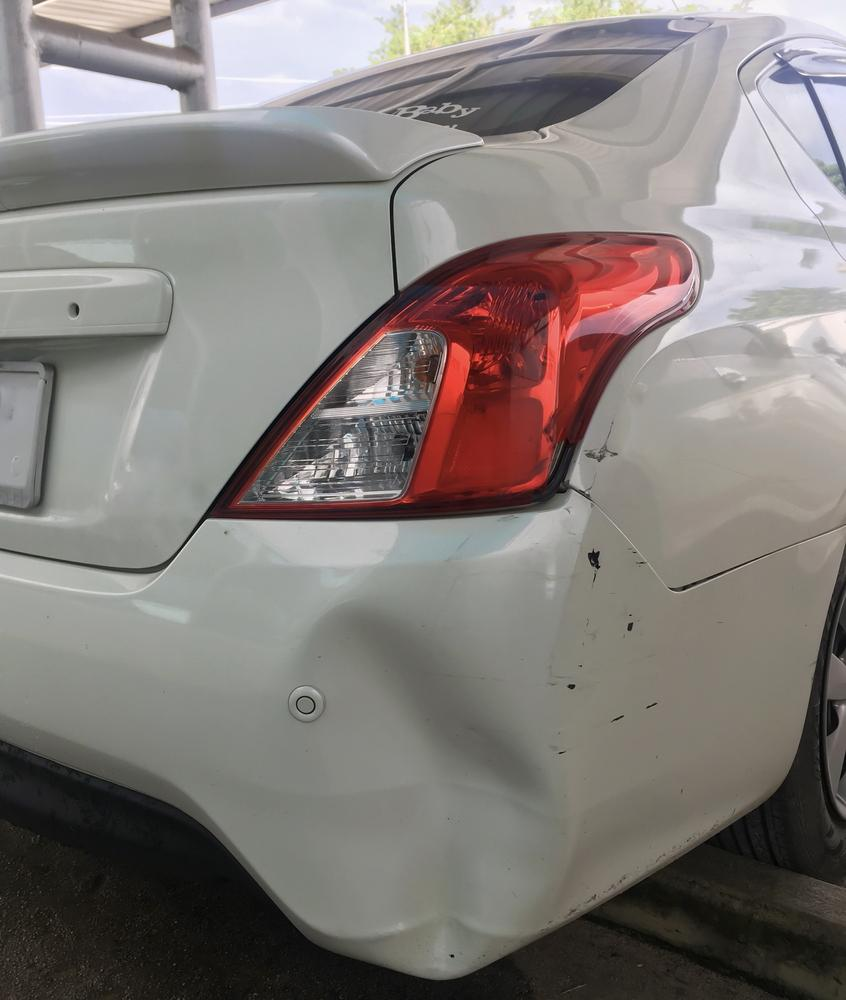dent: (286, 603, 567, 976)
